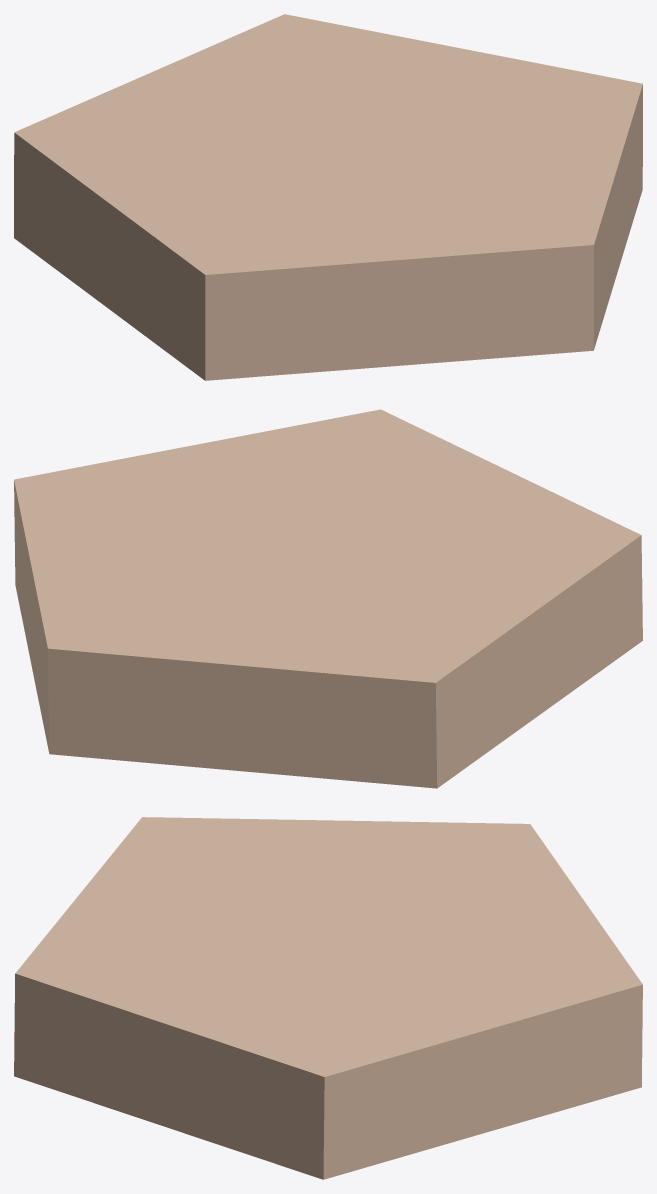
File: SM_Shape_Cube_5_Sides__02.fbx
3 views of the same model, one above another, from view 1: azimuth 30°, elevation 25°; view 2: azimuth 150°, elevation 25°; view 3: azimuth 270°, elevation 25° (orthographic). The views are drawn at different scales.
Parts seen in each view (by area): view 1: SM_Shape_Cube_5_Sides__02; view 2: SM_Shape_Cube_5_Sides__02; view 3: SM_Shape_Cube_5_Sides__02.
Part boxes in pixels (x1=…): SM_Shape_Cube_5_Sides__02: x1=14, y1=14, x2=642, y2=380; SM_Shape_Cube_5_Sides__02: x1=14, y1=409, x2=642, y2=788; SM_Shape_Cube_5_Sides__02: x1=14, y1=817, x2=642, y2=1179.
Bounding box in the file's own units: 7.55 × 1.53 × 7.89.
